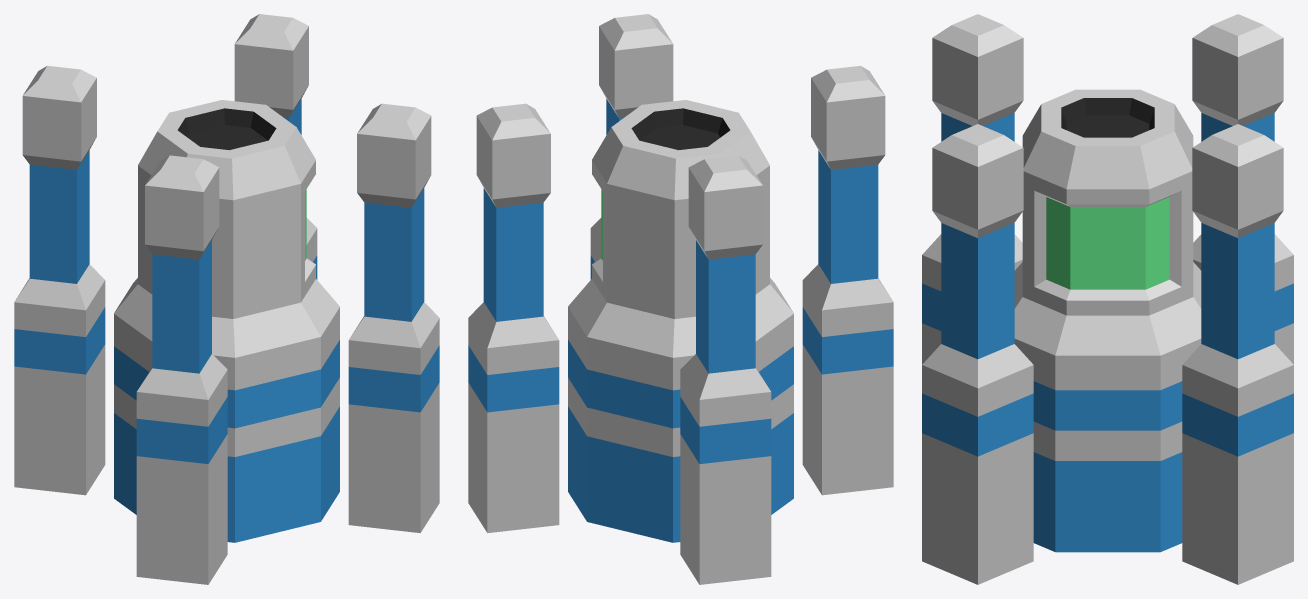
Rendered from Tower_GameCourse.fbx.
3 renders of one model, left to right at view 1: azimuth 30°, elevation 25°; view 2: azimuth 150°, elevation 25°; view 3: azimuth 270°, elevation 25°, orthographic. The views are drawn at different scales.
Parts seen in each view (by area): view 1: Cube; view 2: Cube; view 3: Cube.
Part boxes in pixels (x1=…): Cube: x1=14, y1=14, x2=439, y2=584; Cube: x1=468, y1=14, x2=893, y2=584; Cube: x1=922, y1=14, x2=1293, y2=584.
Bounding box in the file's own units: 343 × 343 × 434.
